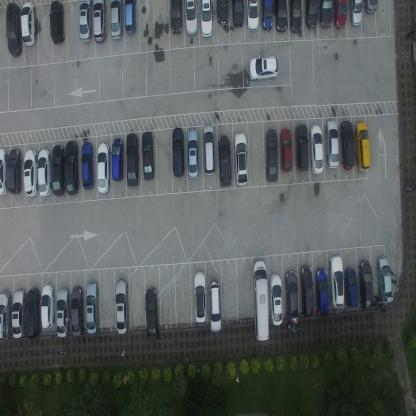car: (252, 260, 269, 342), (5, 2, 22, 57), (114, 279, 130, 336), (64, 140, 80, 196), (125, 132, 140, 190), (339, 120, 356, 170), (328, 255, 344, 308), (376, 254, 393, 303), (354, 120, 370, 172), (314, 267, 330, 318), (144, 288, 159, 342), (248, 54, 278, 81), (208, 281, 223, 334), (22, 149, 38, 198), (309, 123, 324, 175), (359, 259, 374, 311), (217, 133, 231, 188), (264, 128, 278, 183), (85, 280, 99, 335), (234, 132, 248, 186), (285, 271, 299, 324), (300, 264, 314, 317), (49, 0, 65, 46), (193, 272, 207, 324), (171, 127, 185, 179), (70, 286, 84, 338), (26, 288, 40, 340), (141, 130, 155, 181), (295, 122, 309, 173), (7, 148, 22, 195), (51, 143, 64, 197), (325, 119, 339, 169), (80, 140, 94, 190), (41, 283, 56, 329), (202, 123, 215, 176), (186, 127, 199, 180), (97, 141, 110, 194), (56, 288, 70, 337), (270, 275, 283, 327), (21, 1, 36, 46), (92, 0, 107, 45), (37, 148, 51, 196), (12, 288, 25, 338), (279, 127, 293, 173), (78, 0, 92, 44), (344, 266, 359, 307), (111, 137, 124, 181), (0, 289, 11, 340), (184, 0, 198, 36), (110, 0, 122, 42), (200, 0, 213, 38), (246, 0, 260, 34), (124, 0, 136, 38), (170, 0, 183, 35), (318, 0, 333, 30), (304, 0, 319, 29), (290, 0, 302, 34), (275, 0, 287, 34), (349, 0, 363, 29), (334, 0, 347, 31), (216, 0, 229, 28), (261, 0, 273, 30), (0, 147, 7, 197), (232, 0, 244, 29), (363, 0, 377, 16)
